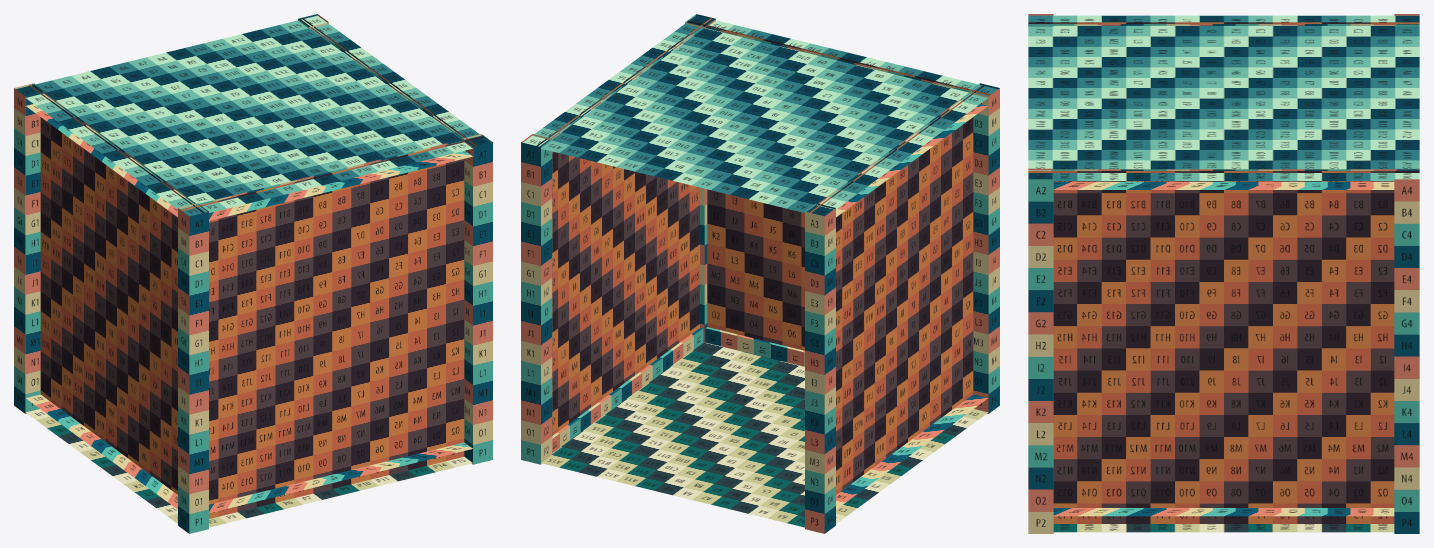
File: Cor_5.fbx
3 views of the same model, side by side, from view 1: azimuth 30°, elevation 25°; view 2: azimuth 150°, elevation 25°; view 3: azimuth 270°, elevation 25° (orthographic). The views are drawn at different scales.
Visible parts, largest first — view 1: Cor_5_Walls, Cor_5_Ceiling, Cor_5_PL_Wall, Cor_5_PL_CL, Cor_5_PL_FL, Cor_5_Floor; view 2: Cor_5_Walls, Cor_5_Ceiling, Cor_5_Floor, Cor_5_PL_Wall, Cor_5_PL_FL, Cor_5_PL_CL; view 3: Cor_5_Walls, Cor_5_Ceiling, Cor_5_PL_Wall, Cor_5_PL_CL, Cor_5_Floor, Cor_5_PL_FL.
Part boxes in pixels (x1,y1,x2,y2): Cor_5_Walls: (29,18,483,518); Cor_5_Ceiling: (16,15,490,216); Cor_5_PL_Wall: (14,14,492,533); Cor_5_PL_CL: (26,18,472,220); Cor_5_PL_FL: (26,394,472,513); Cor_5_Floor: (26,409,472,527); Cor_5_Walls: (536,18,990,494); Cor_5_Ceiling: (523,15,997,216); Cor_5_Floor: (541,342,987,527); Cor_5_PL_Wall: (521,14,999,533); Cor_5_PL_FL: (552,327,987,509); Cor_5_PL_CL: (539,26,987,217); Cor_5_Walls: (1028,22,1419,523); Cor_5_Ceiling: (1028,15,1419,180); Cor_5_PL_Wall: (1028,14,1419,533); Cor_5_PL_CL: (1051,24,1419,189); Cor_5_Floor: (1053,524,1394,532); Cor_5_PL_FL: (1053,508,1394,516).
Size of the model in its own units: 200 by 200 by 200.
